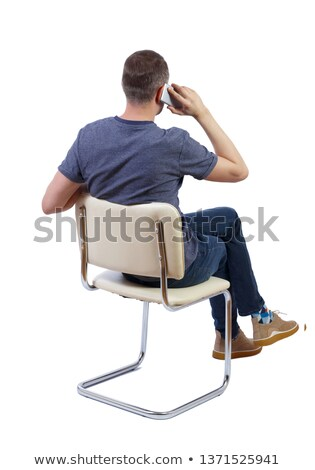phone: (156, 84, 199, 115)
